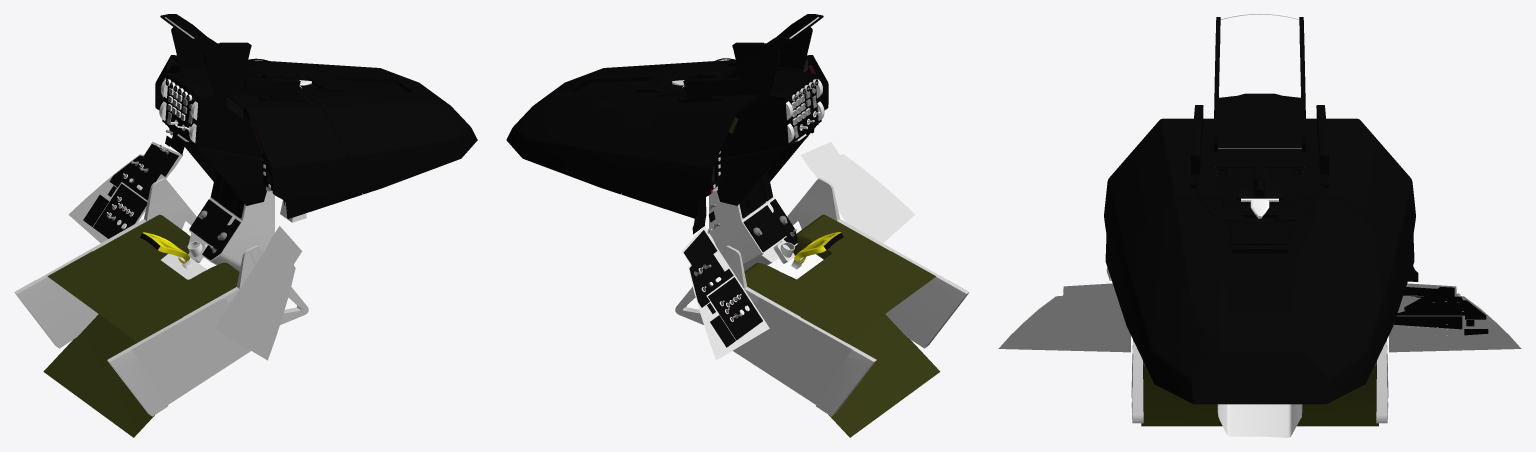
Rendered from cockpit.glb.
3 renders of one model, left to right at view 1: azimuth 30°, elevation 25°; view 2: azimuth 150°, elevation 25°; view 3: azimuth 270°, elevation 25°, orthographic. The views are drawn at different scales.
Visible parts, largest first — view 1: Main, BezierCurve.002, Plane.001, Right Down AUX, New.011, EXT, Circle.000, zero, Main.003, ROK, Plane.002, Left Down AUX (+6 smaller); view 2: Main, BezierCurve.002, Plane.001, Right Down AUX, New.011, EXT, Circle.000, zero, Main.003, Left Down AUX, ROK, Plane.002 (+5 smaller); view 3: Main, ROK, Right Down AUX, New.011, BezierCurve.002, Left Down AUX, EXT, Main.003, Plane.001, Circle.000, DPRK, Plane.002 (+2 smaller).
Part boxes in pixels (box(x1,y1,x2,y2)): Main: box(155, 55, 477, 218); BezierCurve.002: box(43, 214, 239, 437); Plane.001: box(14, 178, 308, 416); Right Down AUX: box(214, 226, 302, 360); New.011: box(162, 70, 263, 158); EXT: box(83, 144, 178, 238); Circle.000: box(160, 14, 257, 102); zero: box(165, 124, 266, 205); Main.003: box(188, 191, 274, 271); ROK: box(251, 71, 416, 95); Plane.002: box(218, 43, 306, 102); Left Down AUX: box(68, 142, 182, 242); Main: box(506, 55, 828, 218); BezierCurve.002: box(744, 214, 940, 437); Plane.001: box(675, 178, 969, 416); Right Down AUX: box(801, 142, 915, 242); New.011: box(720, 70, 821, 158); EXT: box(683, 230, 762, 347); Circle.000: box(726, 14, 823, 102); zero: box(717, 124, 818, 205); Main.003: box(709, 191, 797, 271); Left Down AUX: box(681, 226, 769, 360); ROK: box(567, 71, 732, 95); Plane.002: box(677, 43, 765, 102); Main: box(1104, 118, 1415, 404); ROK: box(1215, 158, 1304, 312); Right Down AUX: box(998, 283, 1130, 352); New.011: box(1216, 94, 1303, 167); BezierCurve.002: box(1141, 361, 1378, 426); Left Down AUX: box(1389, 283, 1521, 352); EXT: box(1394, 287, 1488, 335); Main.003: box(1217, 404, 1302, 437); Plane.001: box(1131, 340, 1388, 423); Circle.000: box(1213, 17, 1306, 152); DPRK: box(1230, 222, 1289, 244); Plane.002: box(1190, 105, 1329, 187).
Size of the model in its own units: 0.5365 by 0.4695 by 0.4744.
37 materials, 14 textured.
